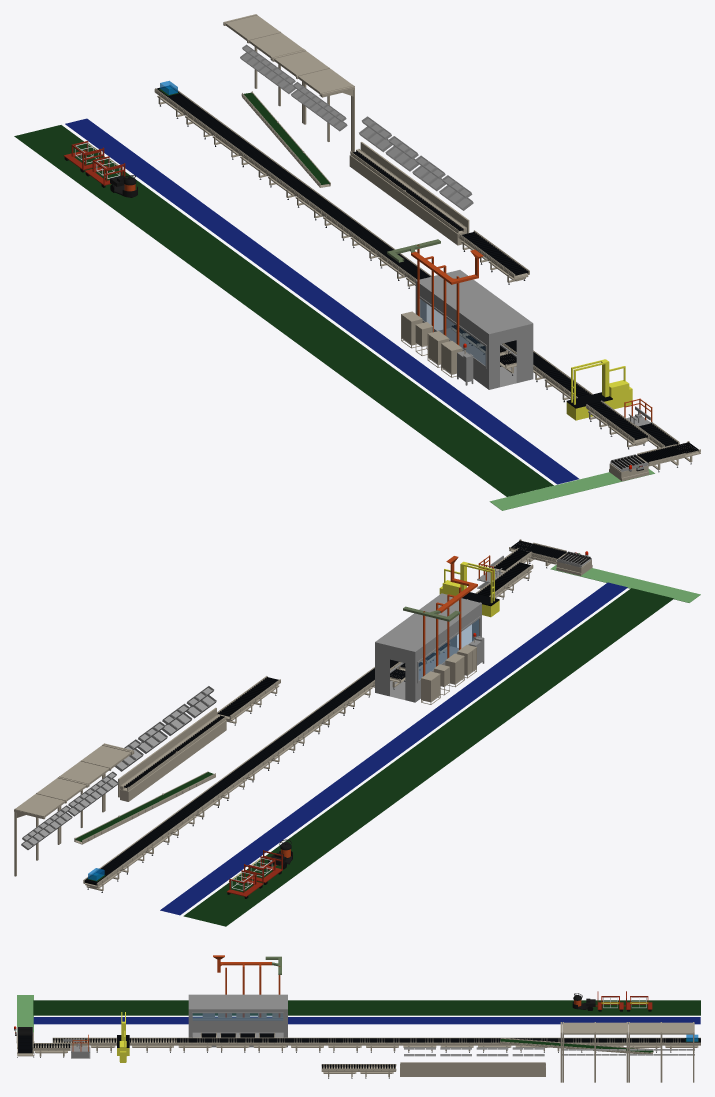
Rendered from productLine.DAE.
3 views of the same model, one above another, from view 1: azimuth 30°, elevation 25°; view 2: azimuth 150°, elevation 25°; view 3: azimuth 270°, elevation 25° (orthographic). The views are drawn at different scales.
Visible parts, largest first — view 1: Plane035, Plane036, Box8337, Rectangle082, Box9658, Box9659, Box9770, Box7163, Plane063, Box5188; view 2: Plane035, Plane036, Box8337, Box9659, Rectangle082, Box9658, Box7163, Box9770, Plane063, Box5188; view 3: Plane035, Plane036, Box8337, Box7224, Box9768, Box9658, Box9659, Plane063, Rectangle082, Box5188, Box5183.
Boxes of the visible parts, left/top/right/bottom form: Plane035: left=14, top=125, right=553, bottom=496; Plane036: left=65, top=118, right=578, bottom=484; Box8337: left=415, top=270, right=533, bottom=389; Rectangle082: left=489, top=469, right=654, bottom=510; Box9658: left=274, top=51, right=351, bottom=93; Box9659: left=225, top=15, right=302, bottom=57; Box9770: left=404, top=188, right=466, bottom=245; Box7163: left=349, top=149, right=412, bottom=205; Plane063: left=420, top=299, right=485, bottom=365; Box5188: left=417, top=245, right=459, bottom=345; Plane035: left=183, top=588, right=673, bottom=926; Plane036: left=160, top=582, right=627, bottom=915; Box8337: left=375, top=593, right=481, bottom=702; Box9659: left=14, top=778, right=86, bottom=818; Rectangle082: left=550, top=564, right=700, bottom=602; Box9658: left=60, top=745, right=130, bottom=784; Box7163: left=120, top=750, right=177, bottom=801; Box9770: left=169, top=714, right=226, bottom=765; Plane063: left=418, top=619, right=478, bottom=679; Box5188: left=423, top=587, right=461, bottom=676; Plane035: left=33, top=1000, right=700, bottom=1015; Plane036: left=33, top=1017, right=700, bottom=1024; Box8337: left=188, top=994, right=287, bottom=1047; Box7224: left=473, top=1062, right=545, bottom=1076; Box9768: left=400, top=1062, right=472, bottom=1076; Box9658: left=562, top=1022, right=628, bottom=1034; Box9659: left=628, top=1022, right=694, bottom=1034; Plane063: left=192, top=1013, right=283, bottom=1020; Rectangle082: left=17, top=995, right=33, bottom=1032; Box5188: left=225, top=964, right=280, bottom=1017; Box5183: left=213, top=955, right=271, bottom=972.
Bounding box in the file's own units: 396 × 1351 × 181.
